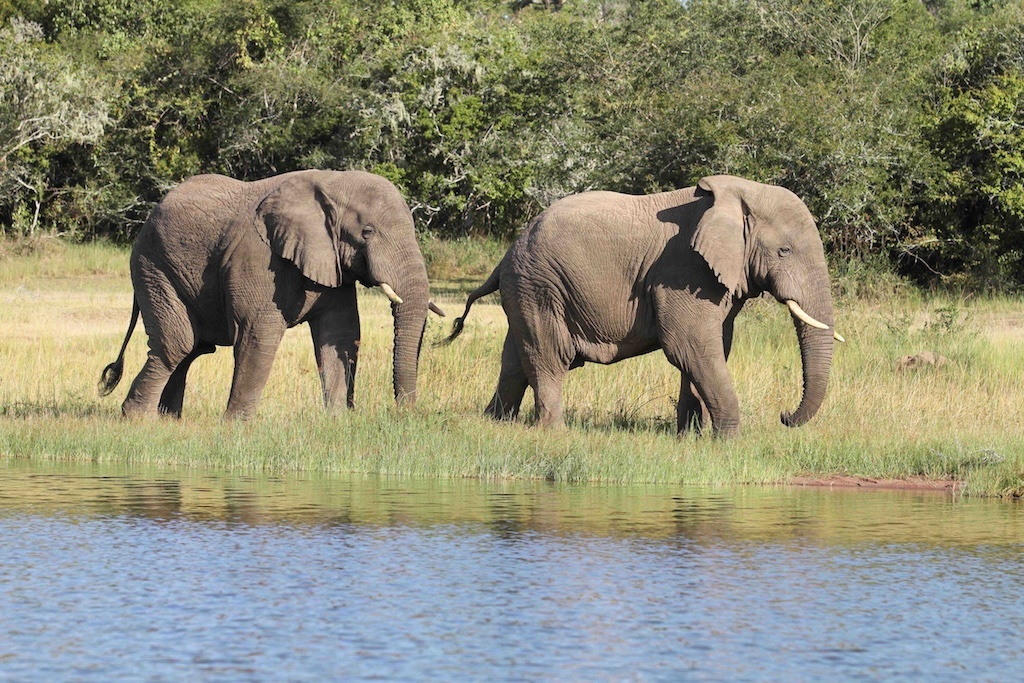elephant: (436, 173, 857, 459), (90, 163, 449, 438)
